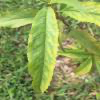Peach leaf: (27, 6, 61, 95)
